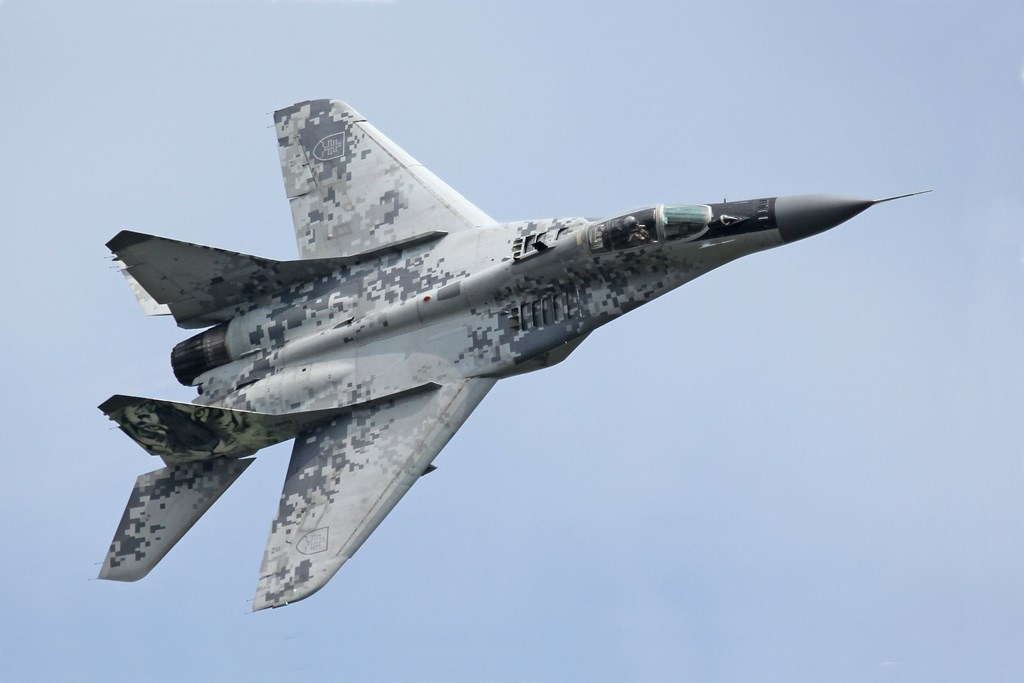Mig-29: (61, 52, 841, 610)
